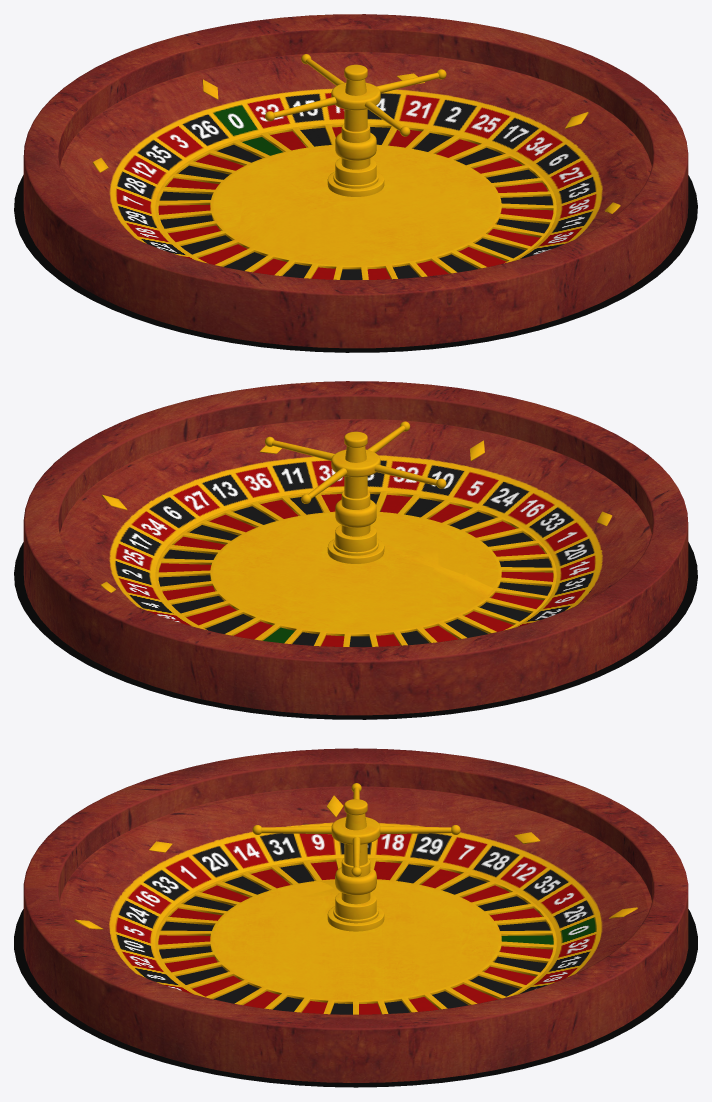
File: Roulete.fbx
3 renders of one model, top to bottom at view 1: azimuth 30°, elevation 25°; view 2: azimuth 150°, elevation 25°; view 3: azimuth 270°, elevation 25°, orthographic.
Parts seen in each view (by area): view 1: roulette.001; view 2: roulette.001; view 3: roulette.001.
Boxes of the visible parts, x1=… form: roulette.001: x1=14, y1=14, x2=697, y2=352; roulette.001: x1=14, y1=381, x2=697, y2=719; roulette.001: x1=14, y1=748, x2=697, y2=1087.
Size of the model in its own units: 4679 by 1065 by 4675.
